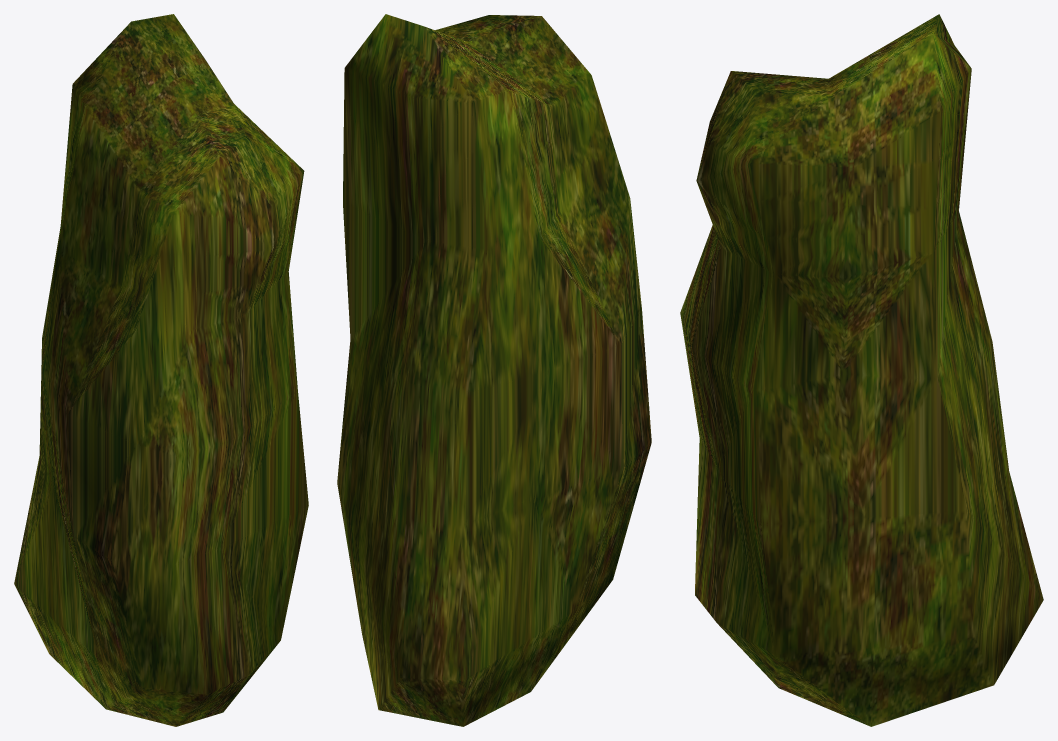
File: TROLLHOLE02_RM_PSURF92.fbx
3 renders of one model, left to right at view 1: azimuth 30°, elevation 25°; view 2: azimuth 150°, elevation 25°; view 3: azimuth 270°, elevation 25°, orthographic. The views are drawn at different scales.
Visible parts, largest first — view 1: TROLLHOLE02_RM_PSURF92; view 2: TROLLHOLE02_RM_PSURF92; view 3: TROLLHOLE02_RM_PSURF92.
Boxes of the visible parts, x1=… form: TROLLHOLE02_RM_PSURF92: x1=14, y1=14, x2=308, y2=726; TROLLHOLE02_RM_PSURF92: x1=337, y1=14, x2=651, y2=726; TROLLHOLE02_RM_PSURF92: x1=680, y1=14, x2=1043, y2=726.
Size of the model in its own units: 45239 by 125159 by 59077.
Materials: 1 (1 with a texture image).
